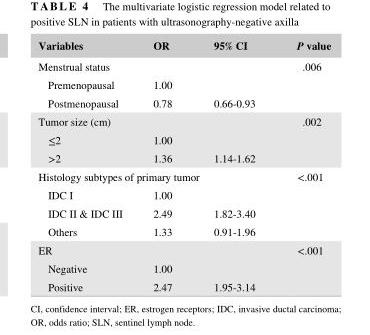table: (37, 37, 330, 295)
table column: (37, 37, 137, 295), (192, 37, 275, 295), (137, 37, 192, 295), (275, 37, 330, 295)
table column header: (37, 37, 330, 56)
table row: (37, 37, 330, 56), (37, 56, 330, 75), (37, 75, 330, 94), (37, 112, 330, 131), (37, 167, 330, 186), (37, 222, 330, 241), (37, 259, 330, 278), (37, 94, 330, 112), (37, 131, 330, 149), (37, 149, 330, 167), (37, 186, 330, 204), (37, 204, 330, 222), (37, 241, 330, 259), (37, 278, 330, 295)
table spanning cell: (37, 56, 275, 75), (37, 112, 275, 131), (37, 167, 275, 186), (37, 241, 275, 259), (275, 167, 330, 241), (275, 56, 330, 112), (275, 112, 330, 167), (275, 241, 330, 295)
